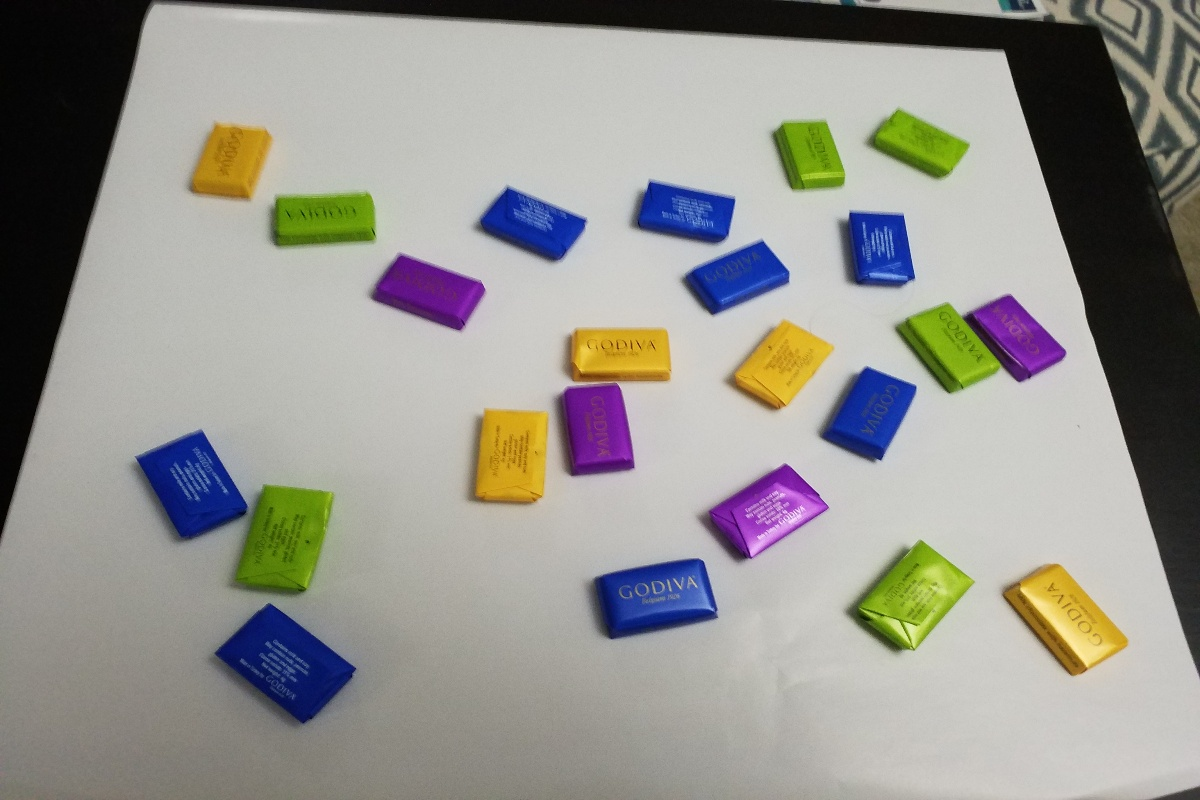chocolate_blue: (205, 600, 366, 732), (845, 527, 966, 661), (127, 421, 250, 546), (467, 176, 602, 272), (584, 557, 726, 641), (825, 365, 920, 472), (677, 240, 798, 319), (835, 202, 923, 299), (631, 176, 746, 248)
chocolate_green: (234, 475, 333, 600), (891, 297, 1011, 397), (863, 103, 979, 191), (760, 110, 853, 200), (263, 189, 391, 250)
chocolate_purple: (693, 456, 841, 563), (360, 248, 503, 335), (552, 379, 642, 482)
chocolate_yellow: (1001, 562, 1134, 690), (728, 317, 836, 417), (463, 400, 552, 512), (554, 319, 682, 385), (185, 114, 275, 206)
